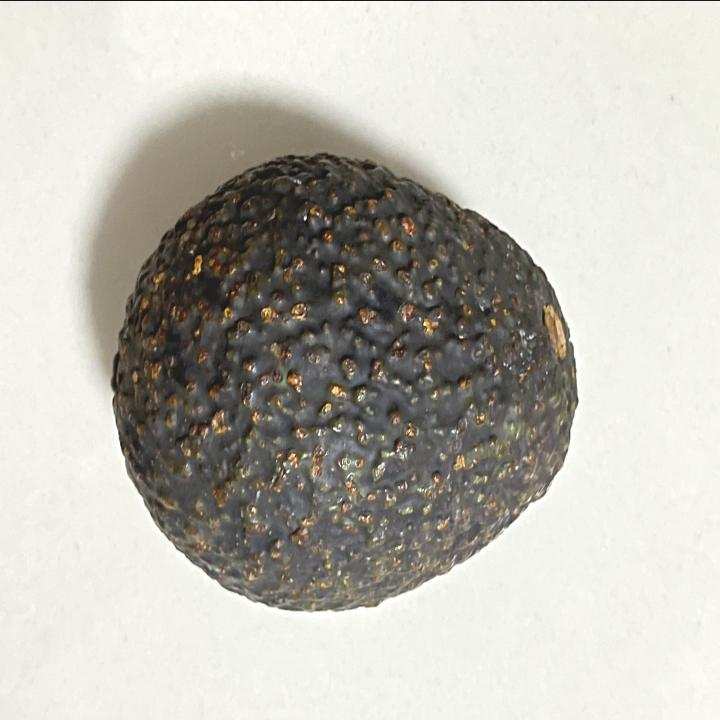Level2: (103, 145, 588, 619)
